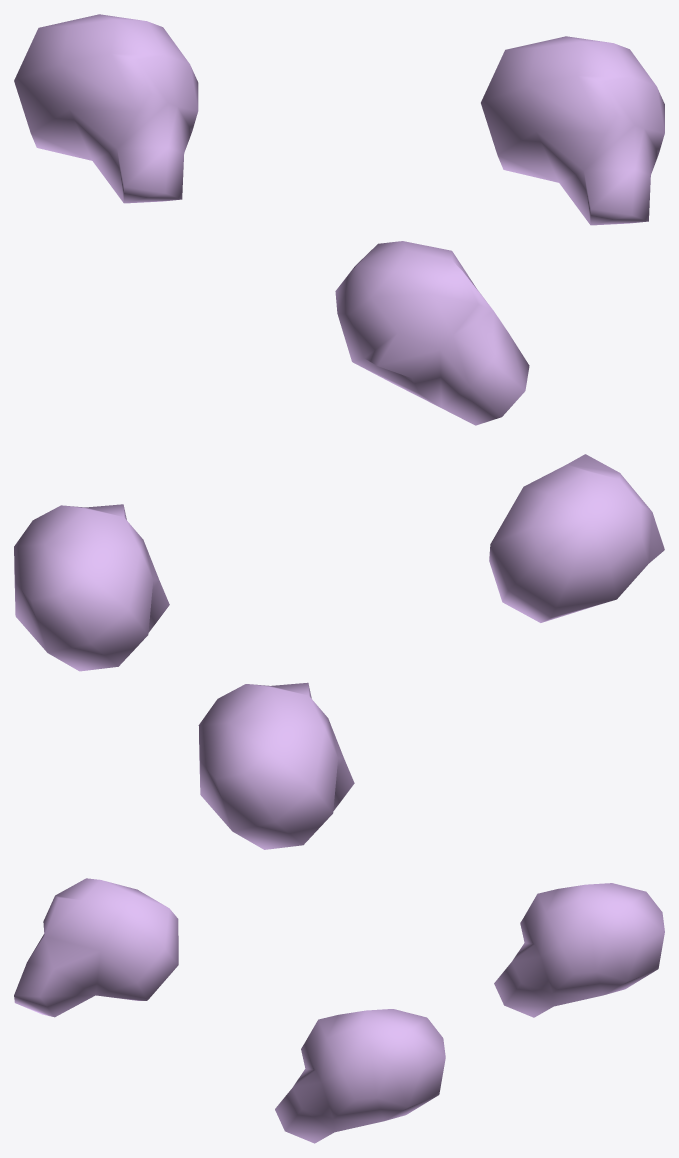
The model's file is ytlds_Object (37).fbx.
3 renders of one model, top to bottom at view 1: azimuth 30°, elevation 25°; view 2: azimuth 150°, elevation 25°; view 3: azimuth 270°, elevation 25°, orthographic. The views are drawn at different scales.
Parts seen in each view (by area): view 1: Object37; view 2: Object37; view 3: Object37.
Boxes of the visible parts, x1,y1,x2,y2 form: Object37: (14, 14, 664, 425); Object37: (14, 454, 664, 849); Object37: (14, 878, 664, 1143).
Size of the model in its own units: 71.57 by 23.15 by 107.
